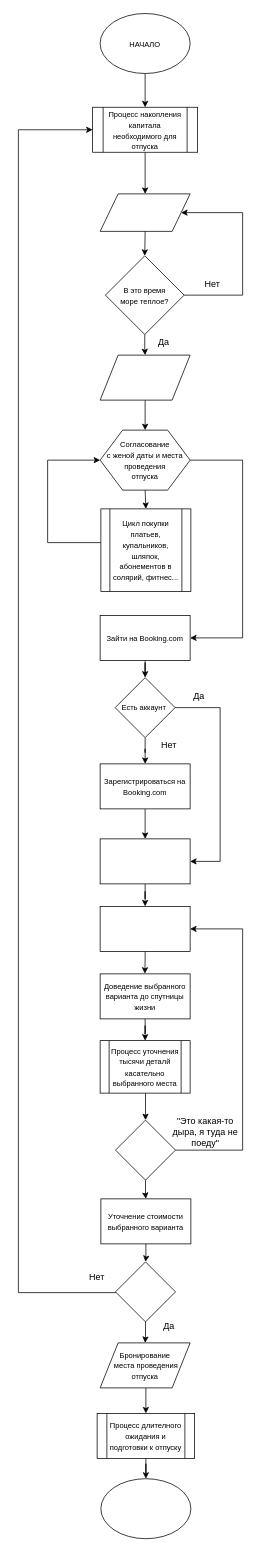
Image size: 262x1552. Some labels were removed from this diagram. The shapes that lost their labels are listed below. From the top down, each one's centre as x and y in pixels, then its label:
At (x=144, y=212): "Выбор даты отпуска".
At (x=144, y=377): "Выбрать страну для проведения отпуска".
At (x=144, y=861): "Ввести ранее выбранное место и время отпуска".
At (x=144, y=928): "Выбрать наиболее подходящий вариант".
At (x=145, y=1149): "Согласование?".
At (x=145, y=1291): "Денег хватит?".
At (x=145, y=1508): "КОНЕЦ".
